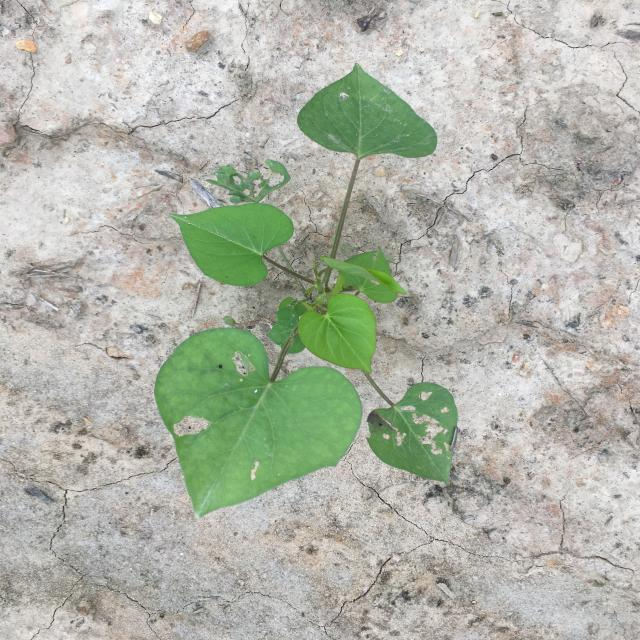MorningGlory: (154, 63, 458, 519)
